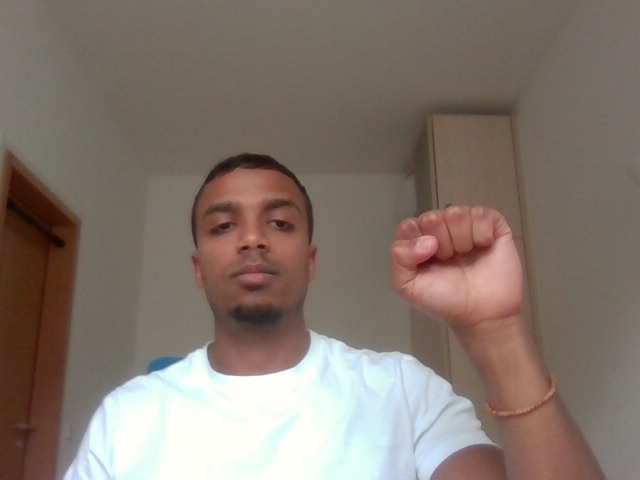neutral: (374, 196, 544, 341)
